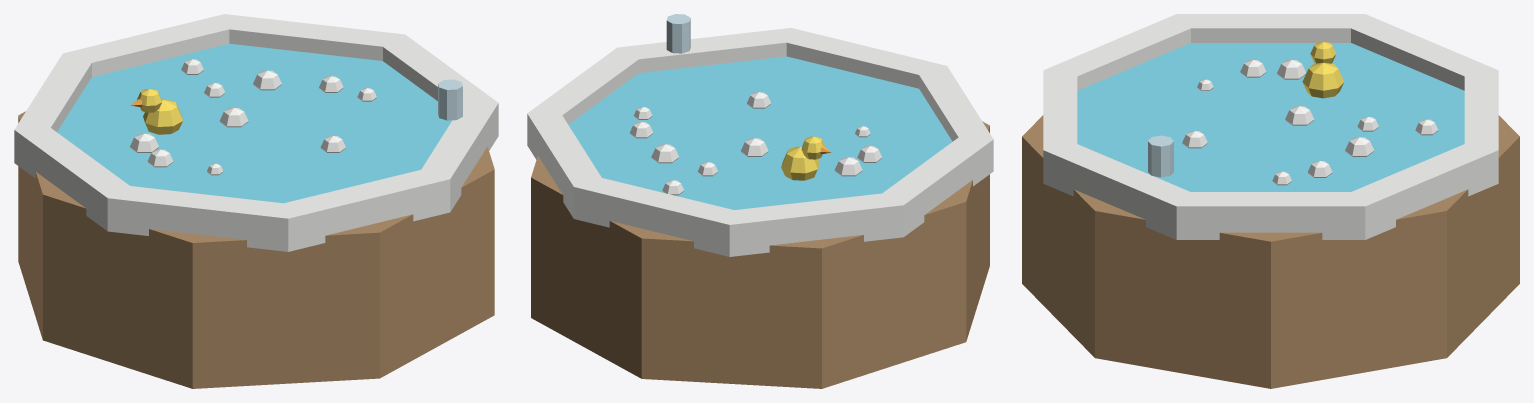
Rendered from CR_Jacuzzi.fbx.
3 views of the same model, side by side, from view 1: azimuth 30°, elevation 25°; view 2: azimuth 150°, elevation 25°; view 3: azimuth 270°, elevation 25° (orthographic). The views are drawn at different scales.
Visible parts, largest first — view 1: CR_Jacuzzi; view 2: CR_Jacuzzi; view 3: CR_Jacuzzi.
Boxes of the visible parts, <box> form: CR_Jacuzzi: <box>14,14,498,388</box>; CR_Jacuzzi: <box>527,14,993,388</box>; CR_Jacuzzi: <box>1022,14,1519,388</box>.
Bounding box in the file's own units: 1.9 × 0.89 × 1.9.
